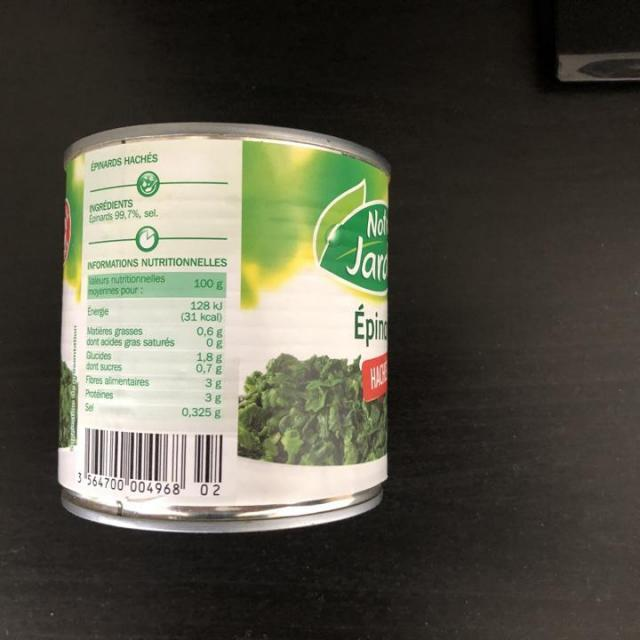recyclable: (50, 118, 401, 548)
